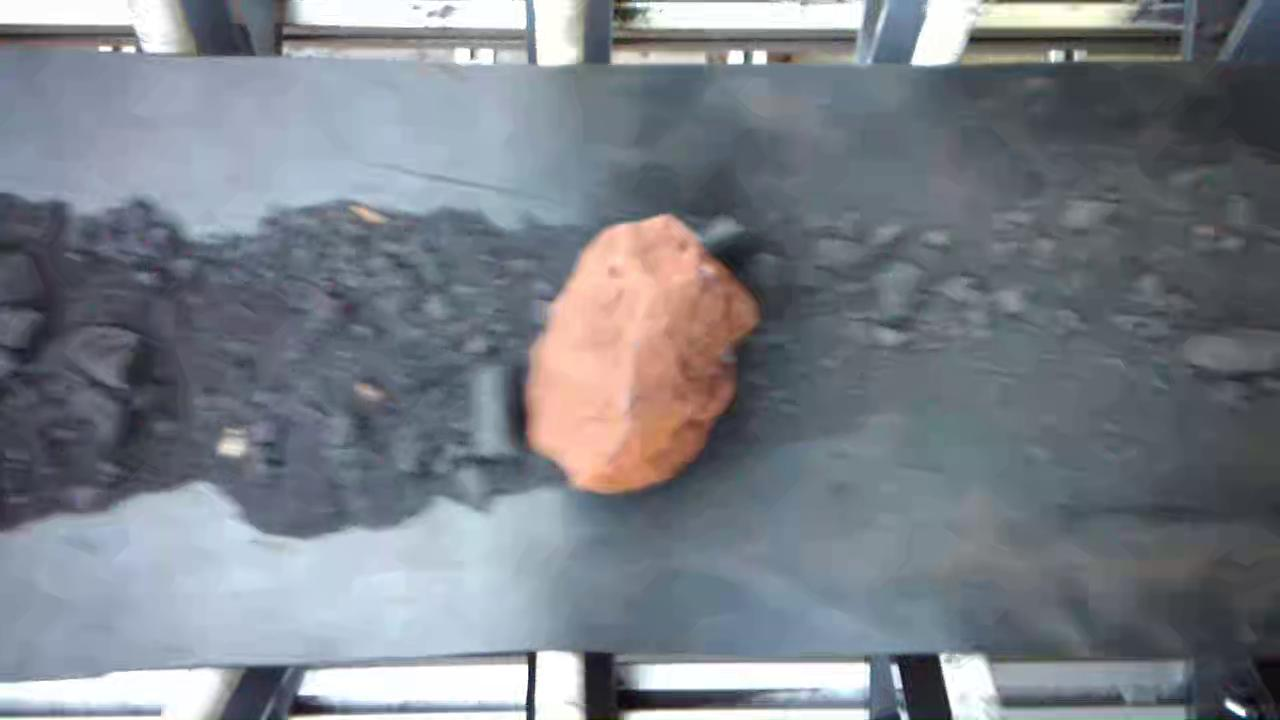conveyor: (0, 73, 1280, 648)
